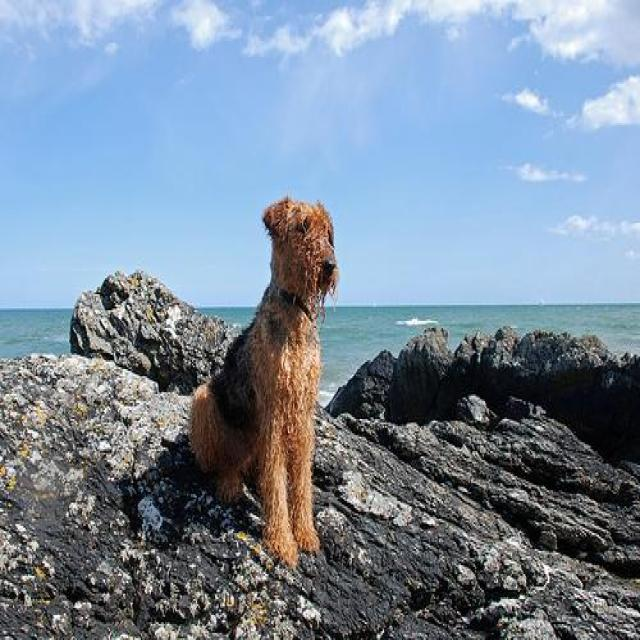airedale: (186, 192, 343, 570)
